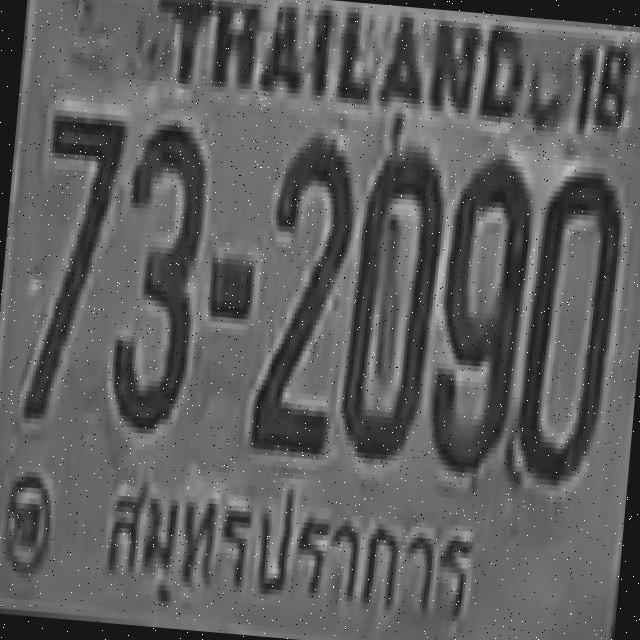0: (510, 162, 624, 483), (338, 144, 446, 460)
2: (250, 132, 356, 452)
3: (106, 116, 209, 431)
7: (23, 106, 126, 422)
9: (425, 150, 534, 476)
SamutPrakan: (90, 446, 489, 640)
